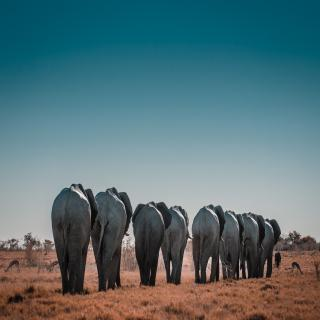Elephant: (48, 180, 99, 297), (91, 184, 133, 291), (131, 198, 172, 288), (188, 200, 228, 280), (160, 202, 196, 285)
